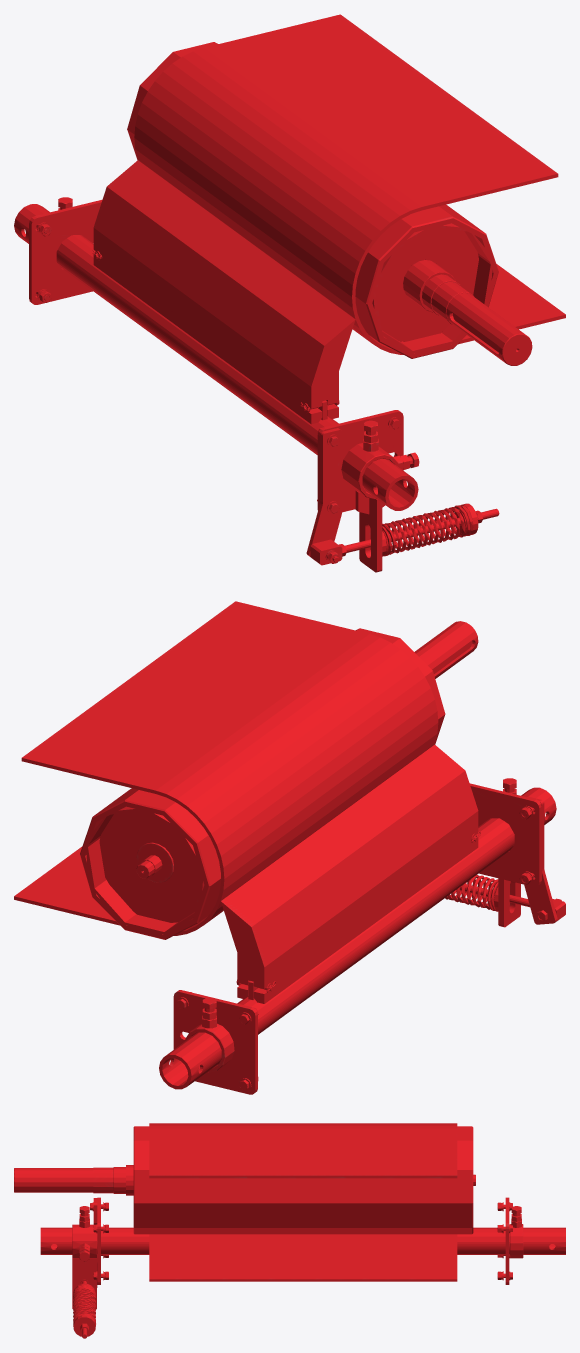
The model's file is SISTEMARASPADOR.glb.
3 views of the same model, one above another, from view 1: azimuth 30°, elevation 25°; view 2: azimuth 150°, elevation 25°; view 3: azimuth 270°, elevation 25° (orthographic). The views are drawn at different scales.
Visible parts, largest first — view 1: node_id3; view 2: node_id3; view 3: node_id3.
Boxes of the visible parts, x1,y1,x2,y2 form: node_id3: (14, 14, 565, 572); node_id3: (14, 601, 565, 1094); node_id3: (14, 1123, 565, 1338).
Bounding box in the file's own units: 0.2243 × 0.2188 × 0.512.
Materials: 1 (1 with a texture image).
